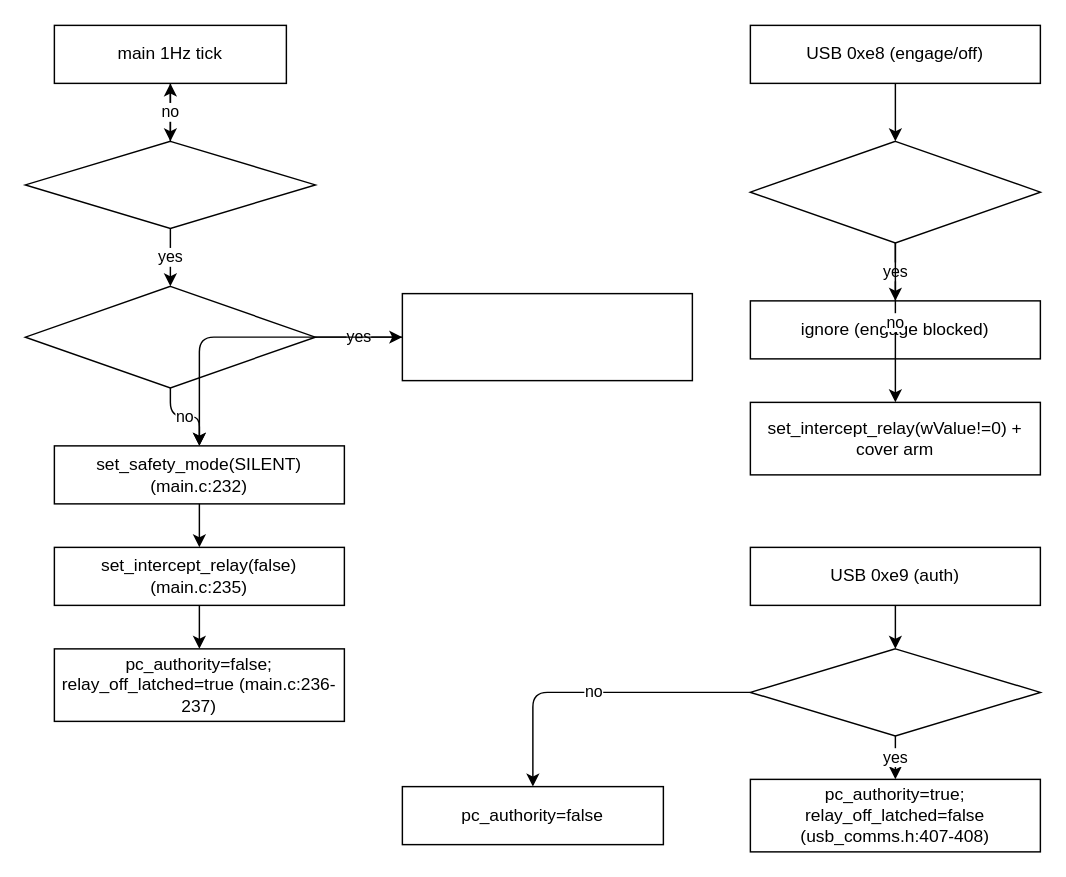
Image size: 1066x877. Some labels were removed from this diagram. Here are the shapes that lost their labels. From the top down, the centre of each, then its label:
the point at 169,184: heartbeat_counter >= thr? (main.c:213)
the point at 894,191: wValue!=0 && relay_off_latched? (usb_comms.h:399)
the point at 169,336: SEER_GATE && pc_authority? (main.c:227)
the point at 546,336: seer_stop_drives() 0x60FF=0 x3 node1,2 (gate.h:482)
the point at 894,691: wValue!=0?
